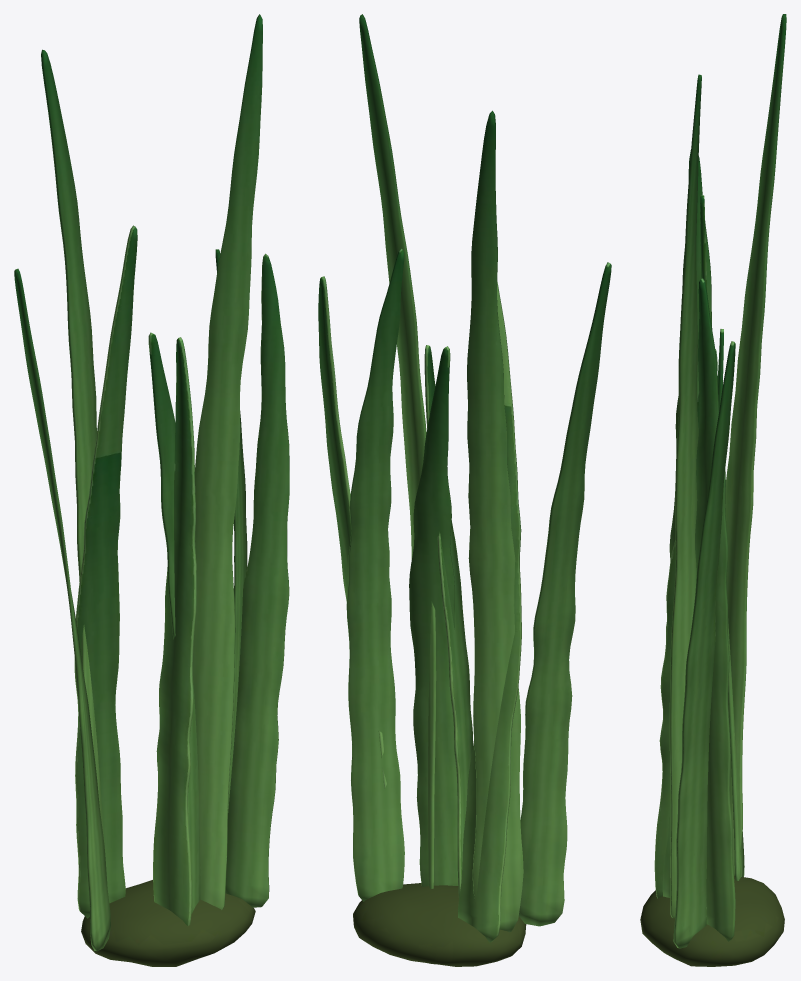
The model's file is d_weed.glb.
3 renders of one model, left to right at view 1: azimuth 30°, elevation 25°; view 2: azimuth 150°, elevation 25°; view 3: azimuth 270°, elevation 25°, orthographic.
Parts seen in each view (by area): view 1: weed; view 2: weed; view 3: weed.
Boxes of the visible parts, x1=… form: weed: x1=14, y1=14, x2=289, y2=966; weed: x1=318, y1=14, x2=611, y2=966; weed: x1=640, y1=14, x2=786, y2=966.
Size of the model in its own units: 0.5672 by 1.78 by 0.2569.
Materials: 1 (1 with a texture image).
